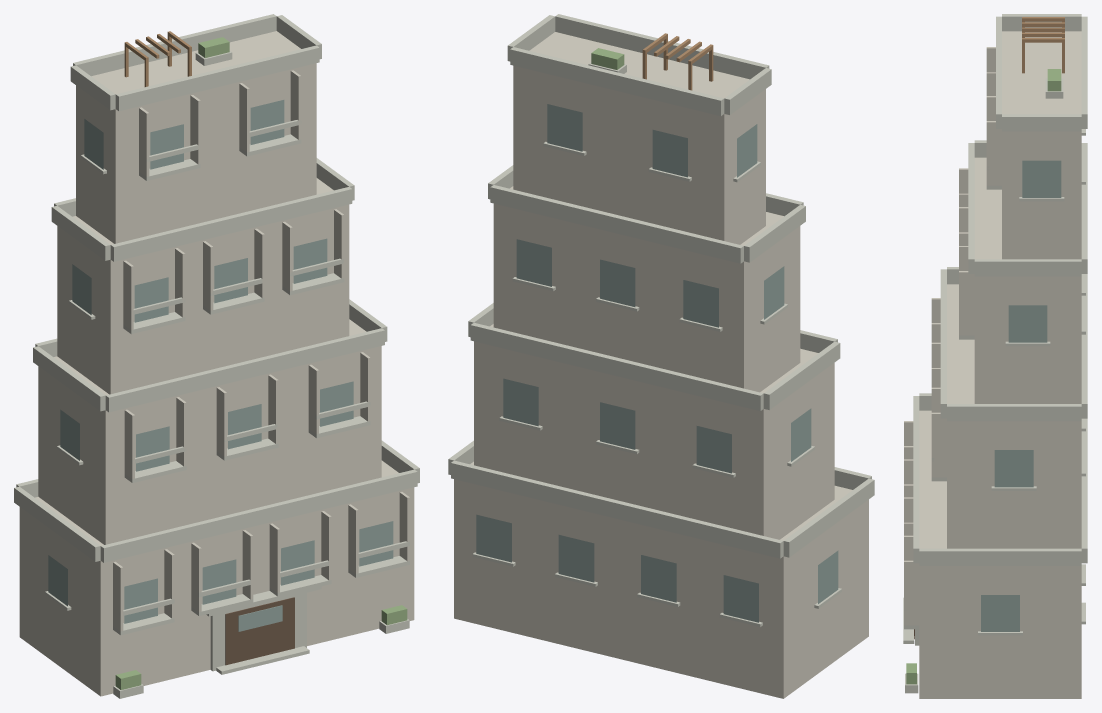
Rendered from residential_2x1_terraces.glb.
The picture shows the model from 3 angles, left to right: view 1: azimuth 30°, elevation 25°; view 2: azimuth 150°, elevation 25°; view 3: azimuth 270°, elevation 25°; orthographic projection. The views are drawn at different scales.
Parts seen in each view (by area): view 1: residential_2x1_terraces_0; view 2: residential_2x1_terraces_0; view 3: residential_2x1_terraces_0.
Part boxes in pixels (x1,y1,x2,y2): residential_2x1_terraces_0: (14, 14, 419, 698); residential_2x1_terraces_0: (448, 14, 874, 698); residential_2x1_terraces_0: (903, 14, 1087, 698).
Bounding box in the file's own units: 15 × 25.5 × 7.4.
